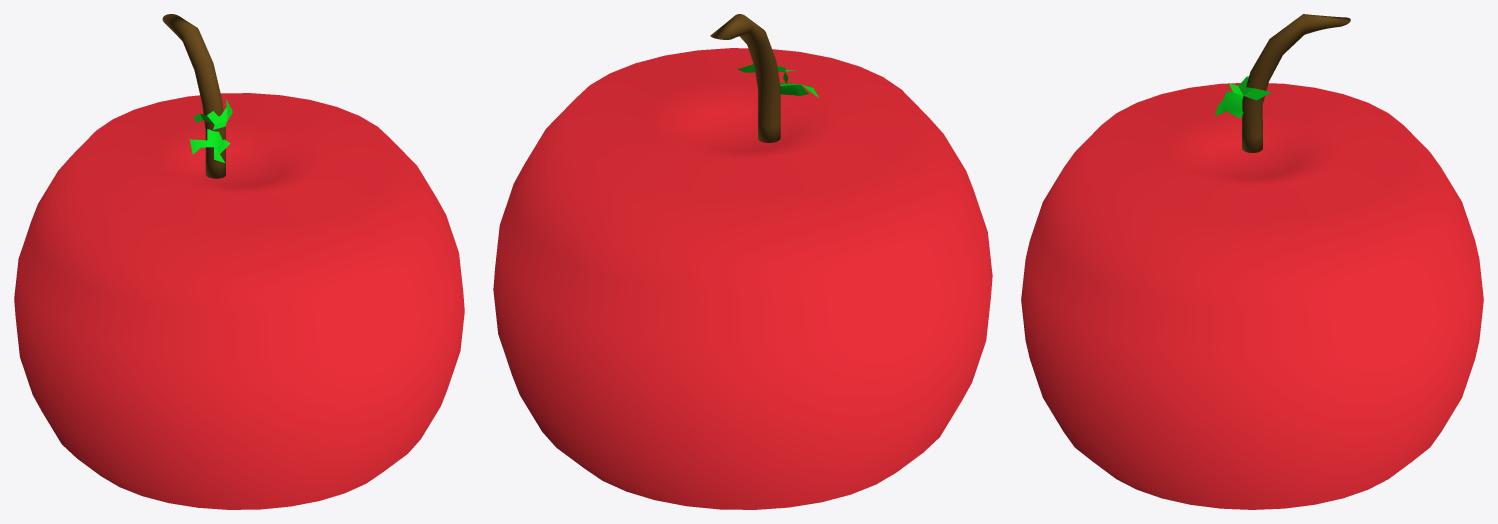
The model's file is Apple.glb.
3 views of the same model, side by side, from view 1: azimuth 30°, elevation 25°; view 2: azimuth 150°, elevation 25°; view 3: azimuth 270°, elevation 25° (orthographic). The views are drawn at different scales.
Parts seen in each view (by area): view 1: Slice1, Slice2, Slice3, Stem, Leaf; view 2: Slice1, Slice2, Slice3, Stem, Leaf; view 3: Slice3, Slice2, Slice1, Stem, Leaf.
Part boxes in pixels (bbox=[...]): Slice1: bbox=[14, 129, 288, 509]; Slice2: bbox=[98, 95, 419, 508]; Slice3: bbox=[220, 93, 464, 451]; Stem: bbox=[162, 14, 225, 178]; Leaf: bbox=[189, 98, 232, 162]; Slice1: bbox=[688, 88, 992, 509]; Slice2: bbox=[543, 49, 899, 508]; Slice3: bbox=[493, 48, 750, 446]; Stem: bbox=[710, 14, 780, 142]; Leaf: bbox=[737, 64, 818, 97]; Slice3: bbox=[1038, 164, 1466, 509]; Slice2: bbox=[1021, 103, 1483, 487]; Slice1: bbox=[1116, 83, 1388, 113]; Stem: bbox=[1242, 14, 1350, 152]; Leaf: bbox=[1215, 76, 1271, 118].
Bounding box in the file's own units: 0.49 × 0.5072 × 0.49.
